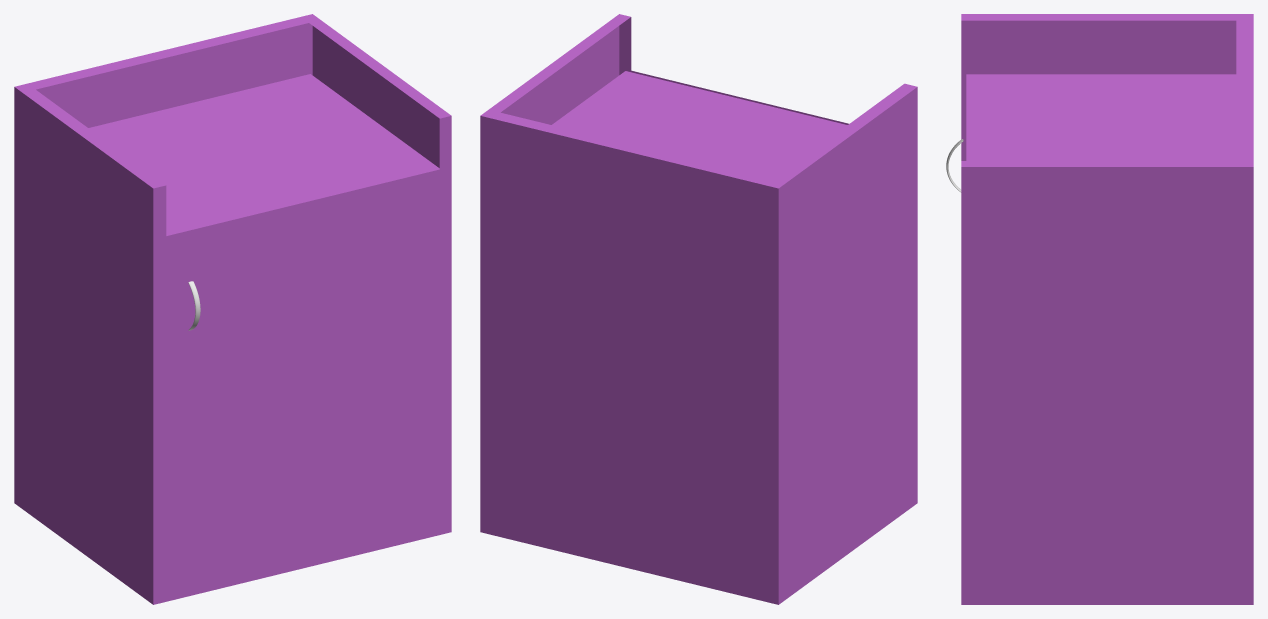
Rendered from podium.fbx.
3 renders of one model, left to right at view 1: azimuth 30°, elevation 25°; view 2: azimuth 150°, elevation 25°; view 3: azimuth 270°, elevation 25°, orthographic. The views are drawn at different scales.
Visible parts, largest first — view 1: Cube; view 2: Cube; view 3: Cube.
Part boxes in pixels (x1,y1,x2,y2): Cube: (14,14,451,604); Cube: (480,14,917,604); Cube: (961,14,1253,604).
Size of the model in its own units: 297 by 396 by 252.
